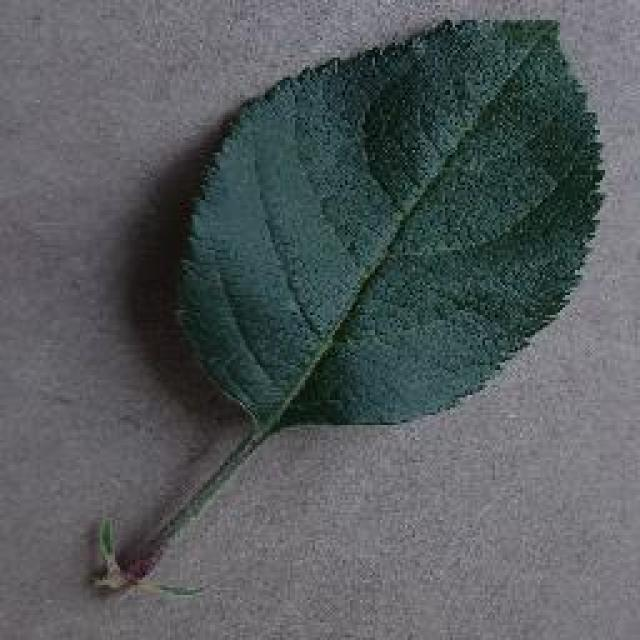apple healthy: (88, 12, 608, 598)
